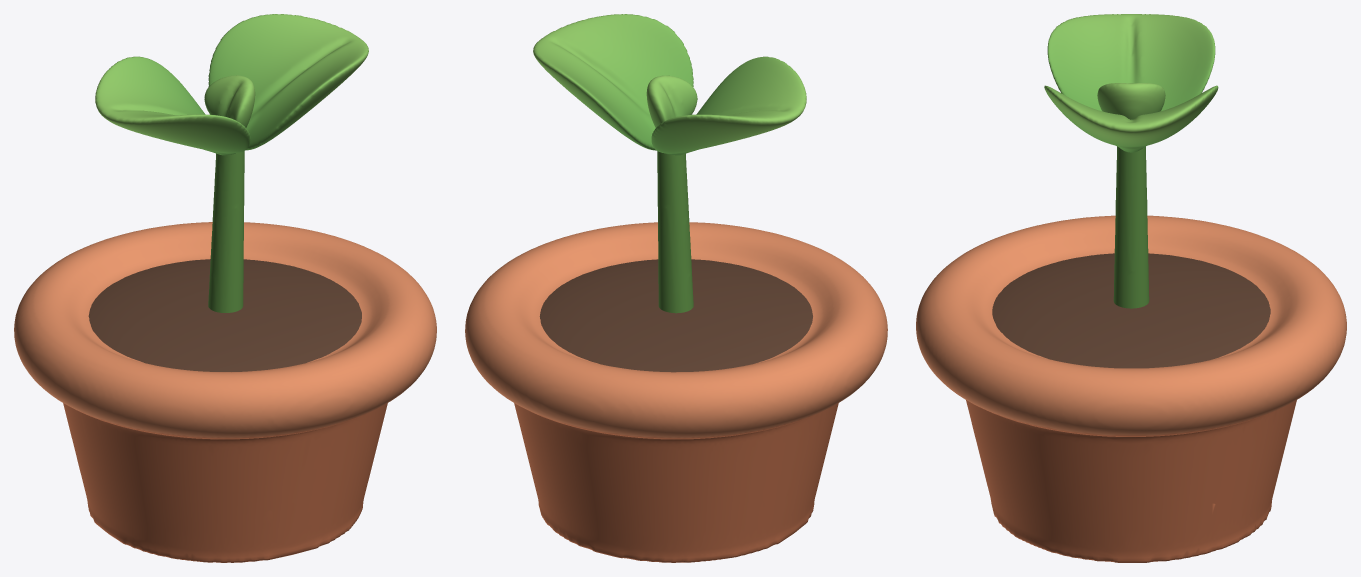
File: plant.glb
3 views of the same model, side by side, from view 1: azimuth 30°, elevation 25°; view 2: azimuth 150°, elevation 25°; view 3: azimuth 270°, elevation 25° (orthographic).
Parts seen in each view (by area): view 1: pot, soil, leaf_0, leaf_1, stem, leaf_2; view 2: pot, soil, leaf_0, leaf_1, stem, leaf_2; view 3: pot, soil, leaf_1, stem, leaf_0, leaf_2.
Part boxes in pixels (x1,y1,x2,y2): pot: (14, 222, 436, 562); soil: (88, 259, 361, 371); leaf_0: (208, 14, 368, 150); leaf_1: (95, 56, 250, 155); stem: (208, 151, 244, 312); leaf_2: (204, 75, 255, 127); pot: (465, 222, 887, 562); soil: (539, 259, 812, 372); leaf_0: (533, 14, 693, 150); leaf_1: (651, 56, 806, 155); stem: (657, 151, 693, 313); leaf_2: (646, 75, 697, 127); pot: (916, 215, 1346, 562); soil: (992, 253, 1270, 368); leaf_1: (1047, 14, 1215, 110); stem: (1113, 146, 1149, 308); leaf_0: (1044, 85, 1218, 152); leaf_2: (1097, 83, 1165, 119).
Bounding box in the file's own units: 1.38 × 1.6 × 1.38.
